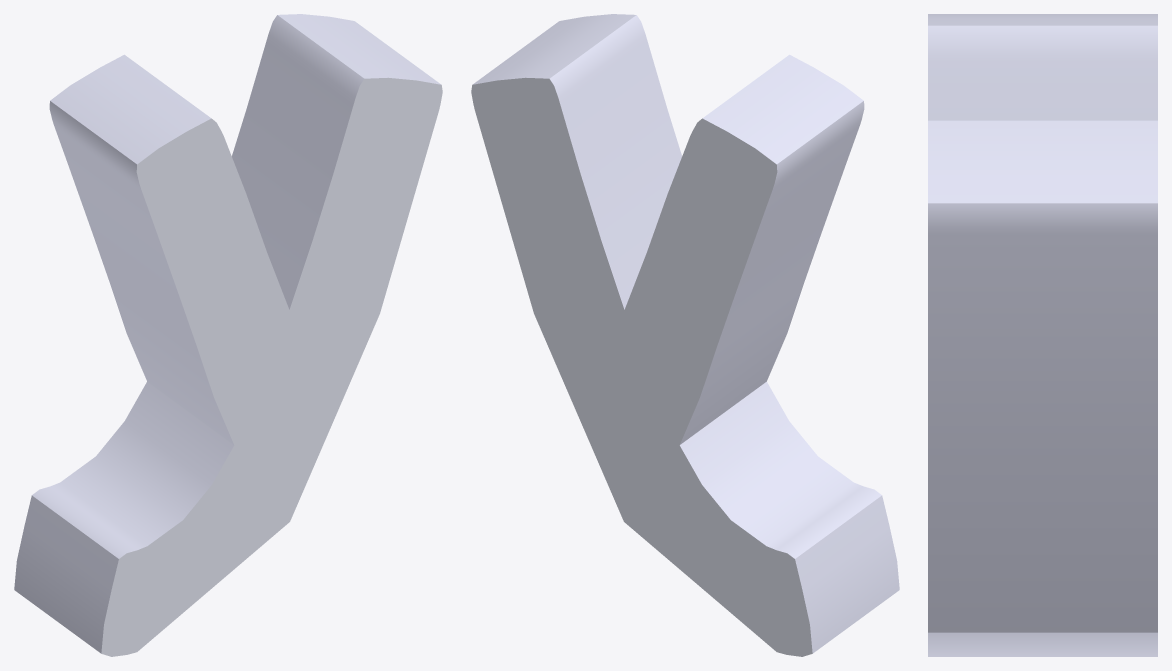
Rendered from Y_Zyzol_Grey.glb.
3 renders of one model, left to right at view 1: azimuth 30°, elevation 25°; view 2: azimuth 150°, elevation 25°; view 3: azimuth 270°, elevation 25°, orthographic. The views are drawn at different scales.
Visible parts, largest first — view 1: y_Zyzol_Grey; view 2: y_Zyzol_Grey; view 3: y_Zyzol_Grey.
Boxes of the visible parts, bbox=[...] form: y_Zyzol_Grey: bbox=[14, 14, 442, 656]; y_Zyzol_Grey: bbox=[471, 14, 899, 656]; y_Zyzol_Grey: bbox=[928, 14, 1157, 656].
Size of what is drawn, in the model's own units: 0.1018 by 0.1476 by 0.045.
Materials: 2 (2 with a texture image).
